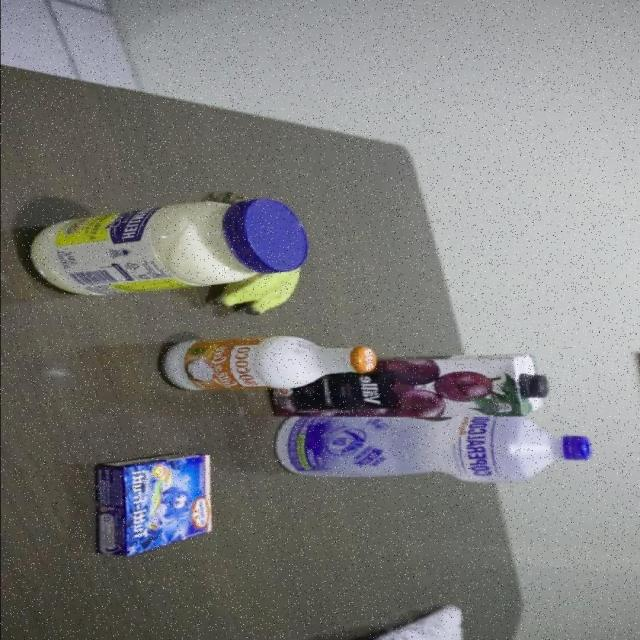AlcoholBottle: (272, 414, 593, 483)
Banana: (204, 268, 304, 316)
CoconutMilk: (159, 333, 378, 392)
Gelatine: (98, 449, 212, 558)
Mayonnaise: (25, 196, 311, 296)
